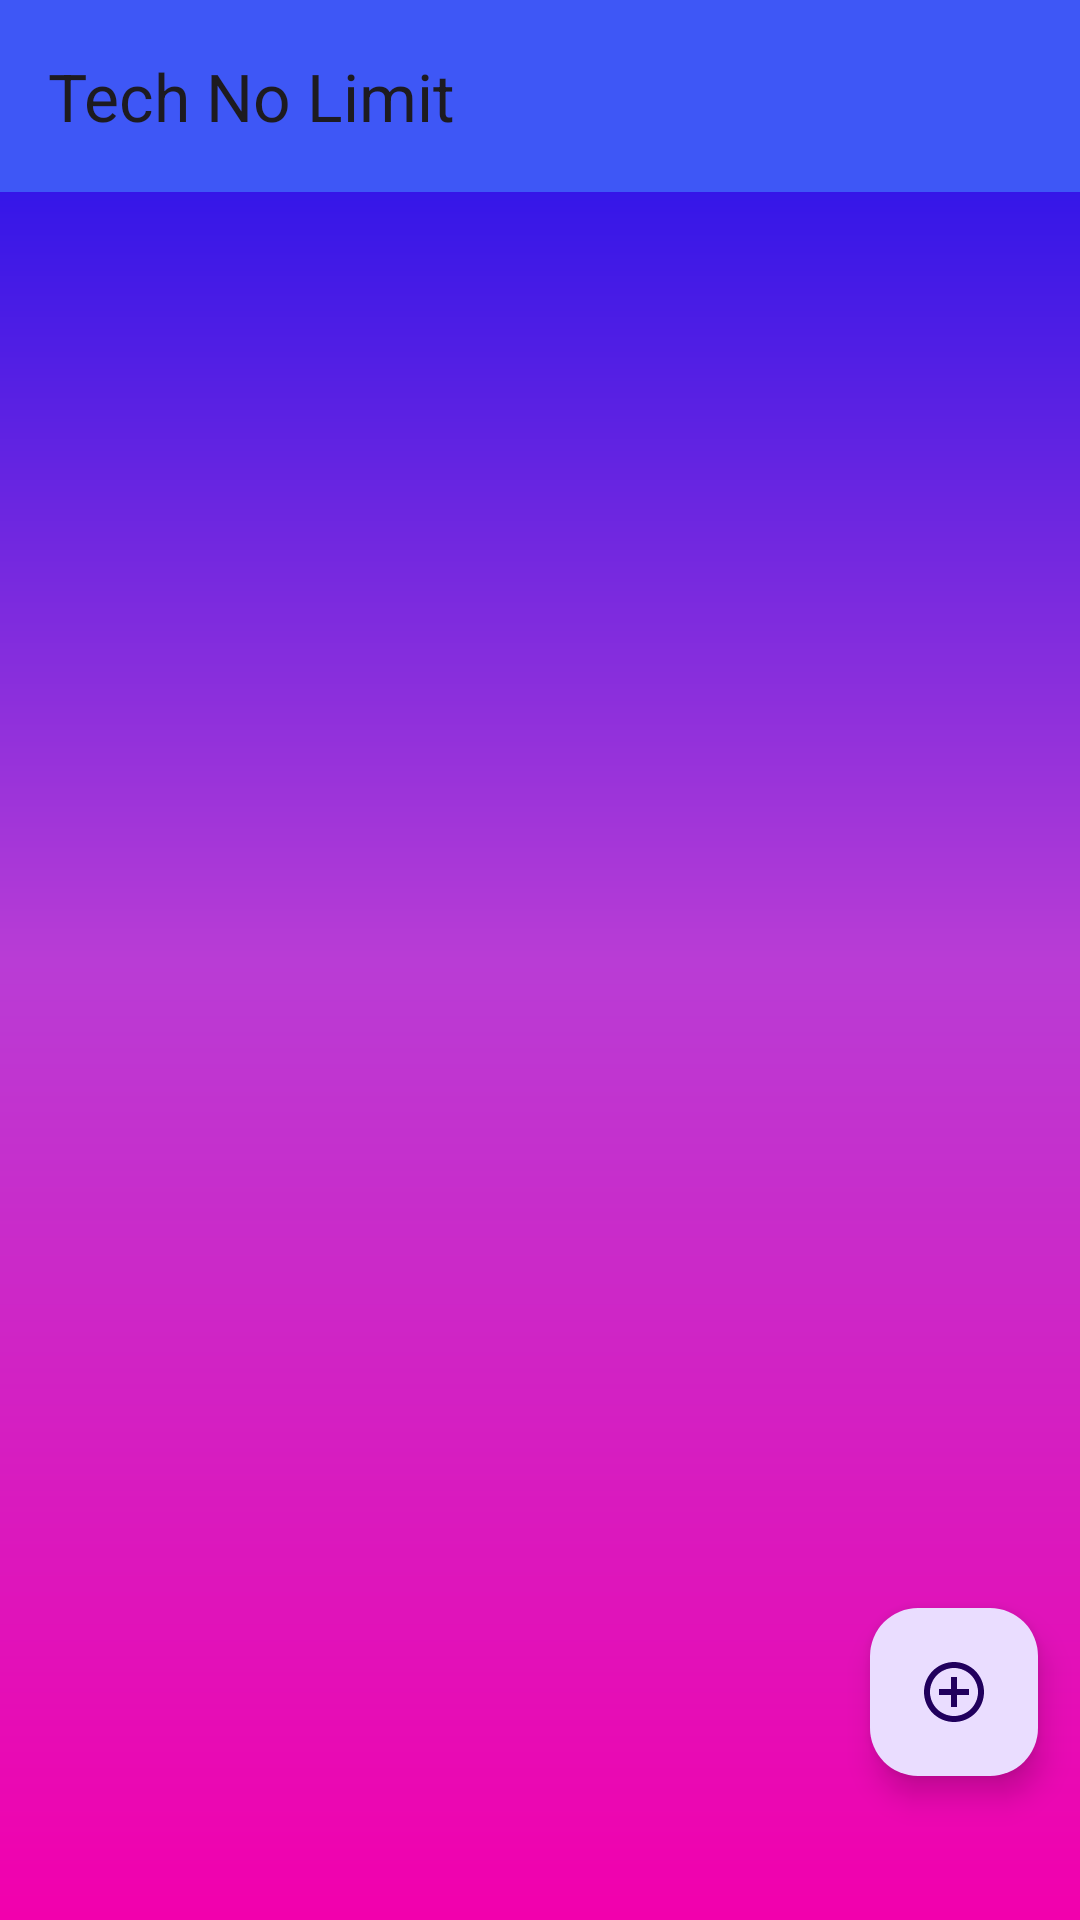

Icons on this 1080px×1920px Android screen, each with the point to tap as [x,y]:
add circle: [954,1692]
